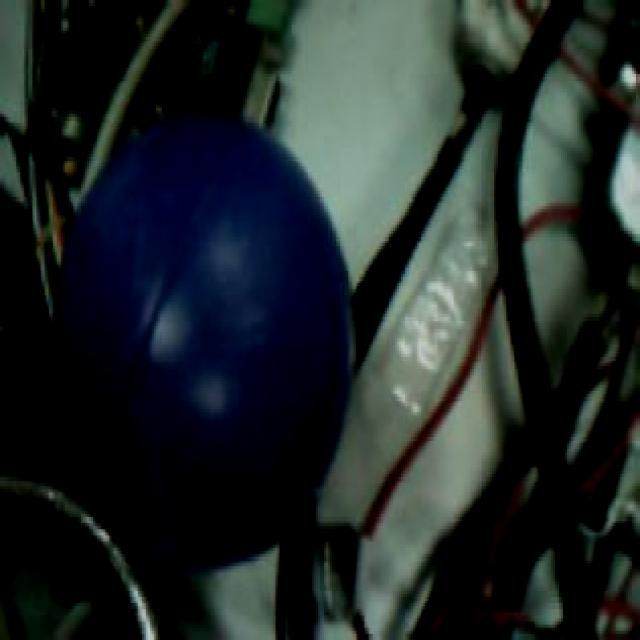BallPurple: (54, 110, 352, 572)
